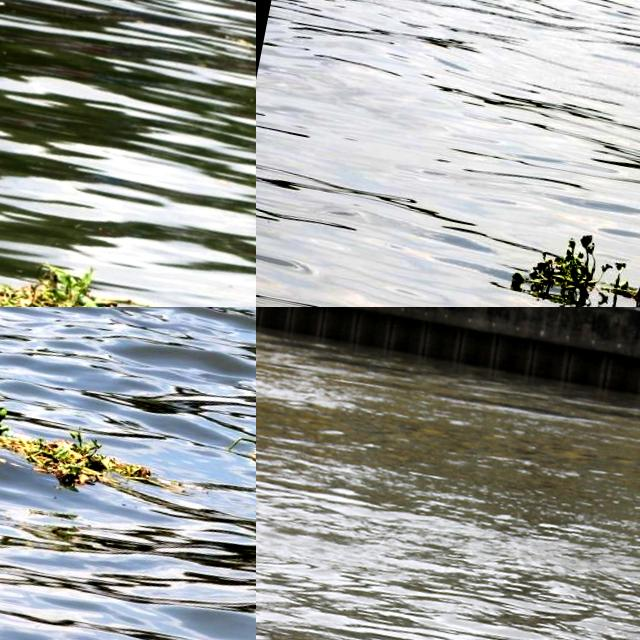water-hyacinth: (2, 405, 157, 493), (507, 218, 640, 308), (1, 267, 147, 308)
